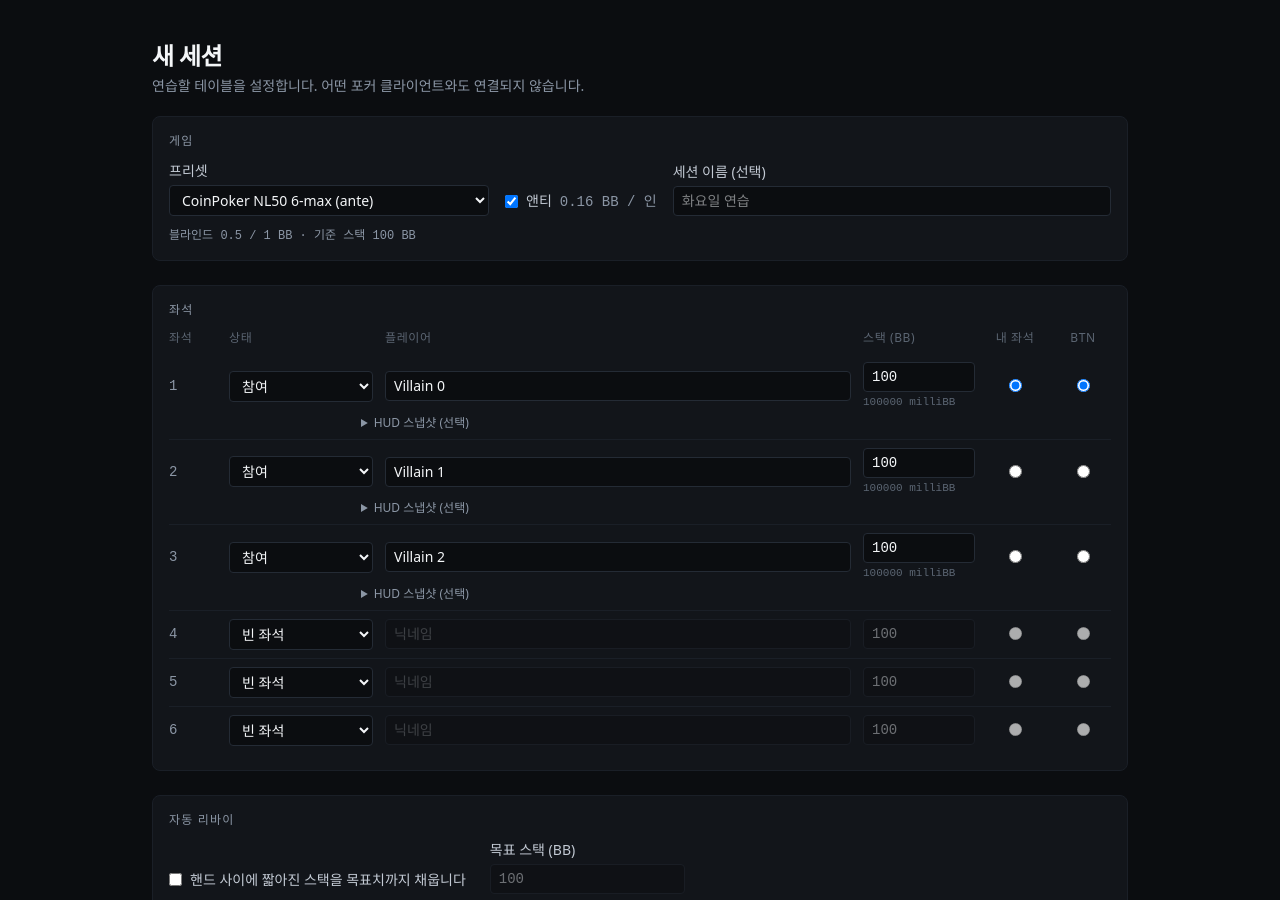
Test case: SessionSetupForm › blocks Start Session on an unparseable stack and KEEPS what the user typed
This screenshot has width=1280, height=900.
Clear the field named "좌석 2 스택 (BB)" at point(919, 462), box [863,448,975,478]
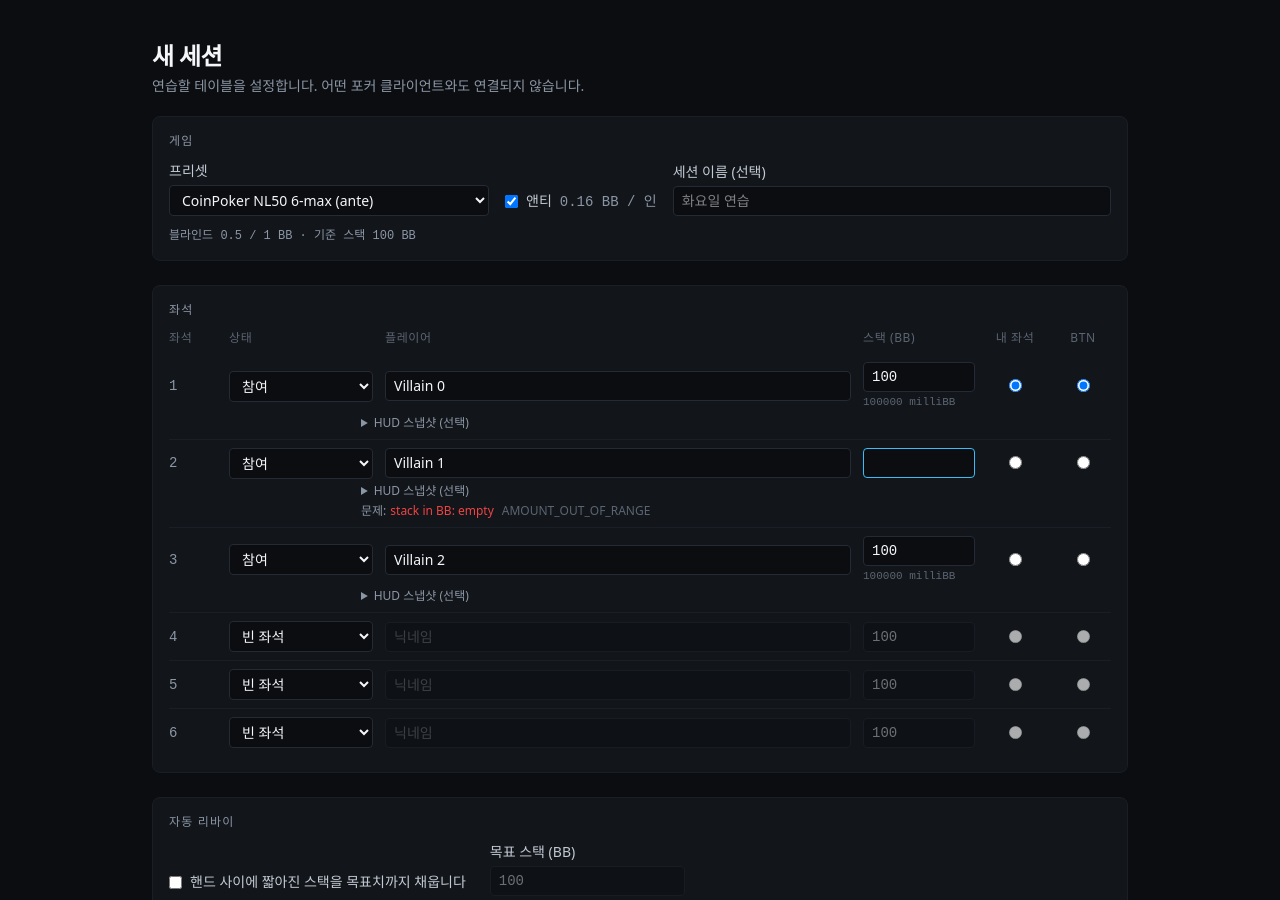
Type "1o0" into the field named "좌석 2 스택 (BB)" at point(919, 463), box [863,448,975,478]
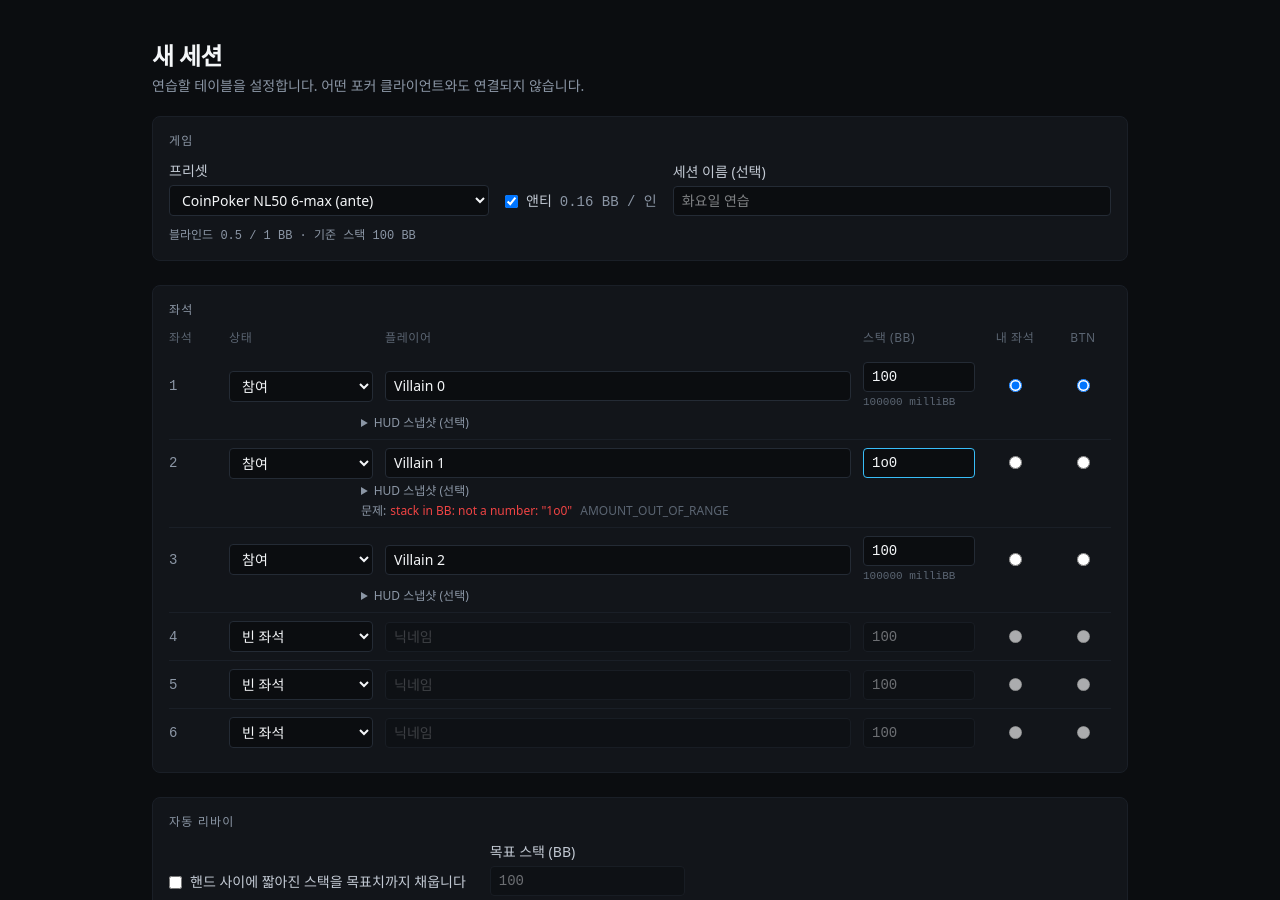
Check: the text "문제:stack in BB: not a number: \"1o0\"AMOUNT_OUT_OF_RANGE" is shown, box [361,502,729,518]
